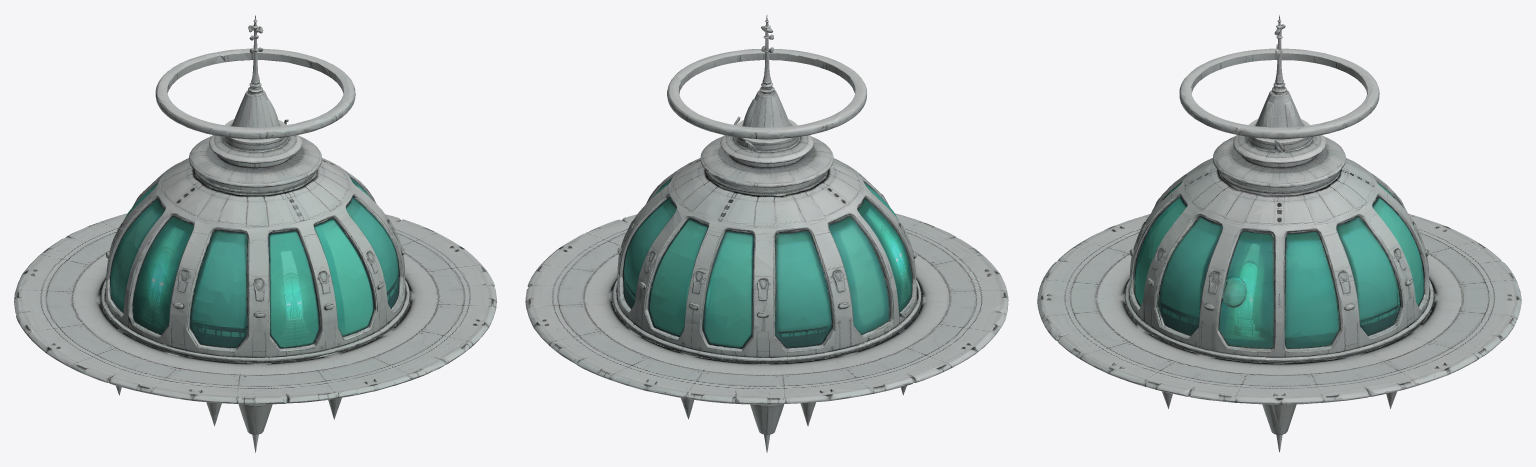
The model's file is bld-sky-dome-v2-mesh.glb.
3 renders of one model, left to right at view 1: azimuth 30°, elevation 25°; view 2: azimuth 150°, elevation 25°; view 3: azimuth 270°, elevation 25°, orthographic.
Parts seen in each view (by area): view 1: Mesh_0; view 2: Mesh_0; view 3: Mesh_0.
Boxes of the visible parts, x1=… form: Mesh_0: x1=14, y1=15, x2=496, y2=452; Mesh_0: x1=525, y1=15, x2=1008, y2=452; Mesh_0: x1=1037, y1=15, x2=1521, y2=452.
Bounding box in the file's own units: 1.9 × 1.9 × 1.9.
1 material, 1 textured.
